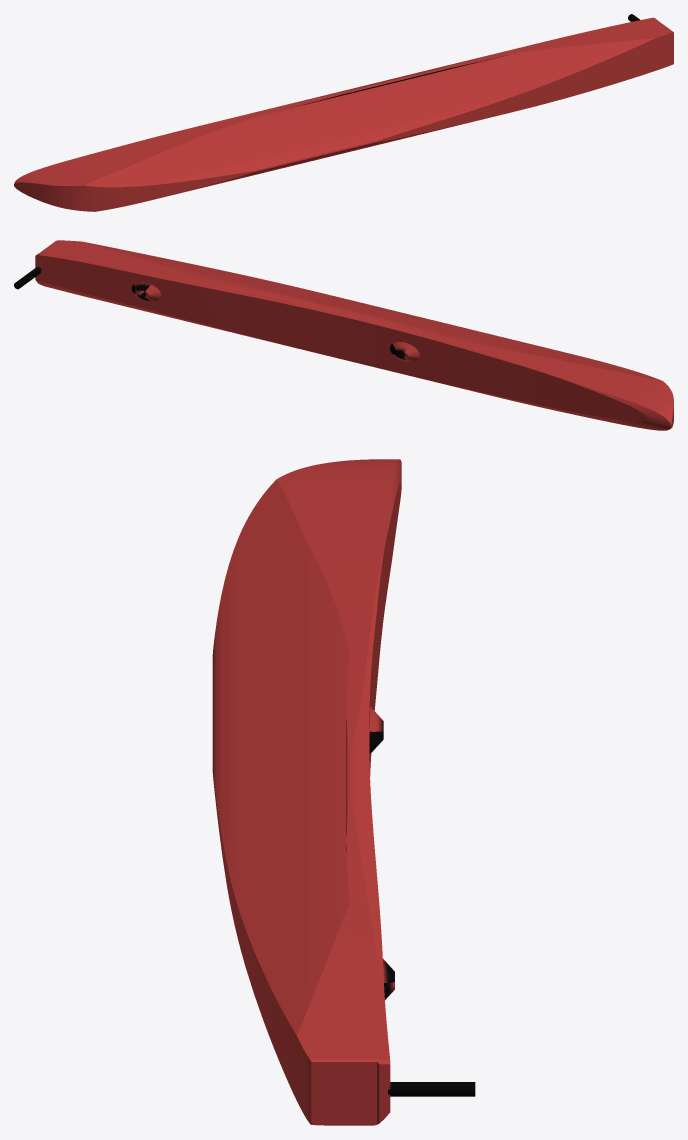
Rendered from port.dae.
3 views of the same model, one above another, from view 1: azimuth 30°, elevation 25°; view 2: azimuth 150°, elevation 25°; view 3: azimuth 270°, elevation 25° (orthographic). The views are drawn at different scales.
Parts seen in each view (by area): view 1: port_hull_v7; view 2: port_hull_v7; view 3: port_hull_v7.
Boxes of the visible parts, x1=… form: port_hull_v7: x1=14, y1=14, x2=673, y2=211; port_hull_v7: x1=14, y1=240, x2=673, y2=430; port_hull_v7: x1=212, y1=459, x2=475, y2=1125.
Bounding box in the file's own units: 5.07 × 0.9018 × 0.3591.
Materials: 1 (1 with a texture image).
